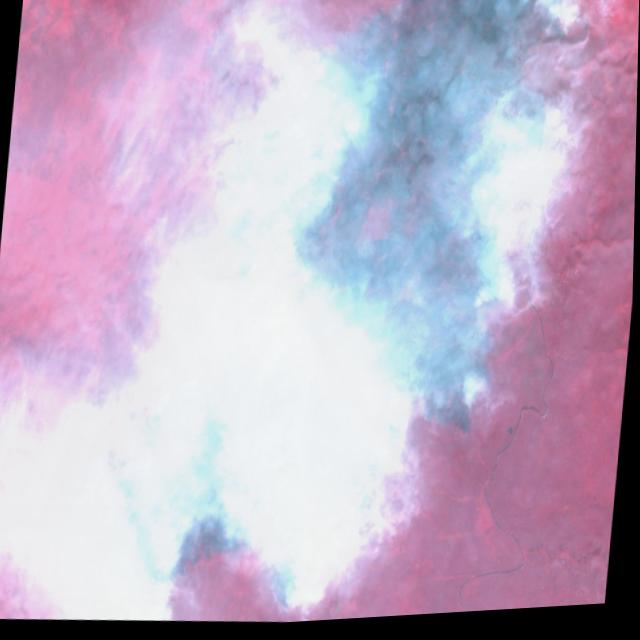fire: (77, 191, 438, 636), (178, 0, 381, 213)
